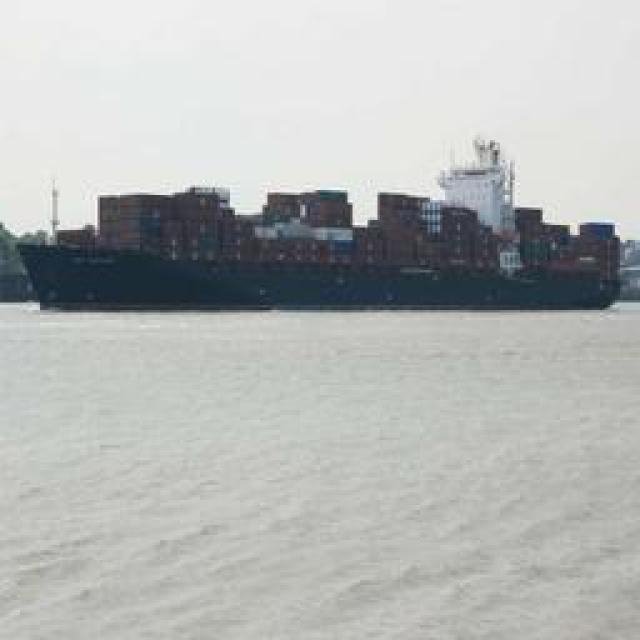ship2: (15, 140, 626, 315)
